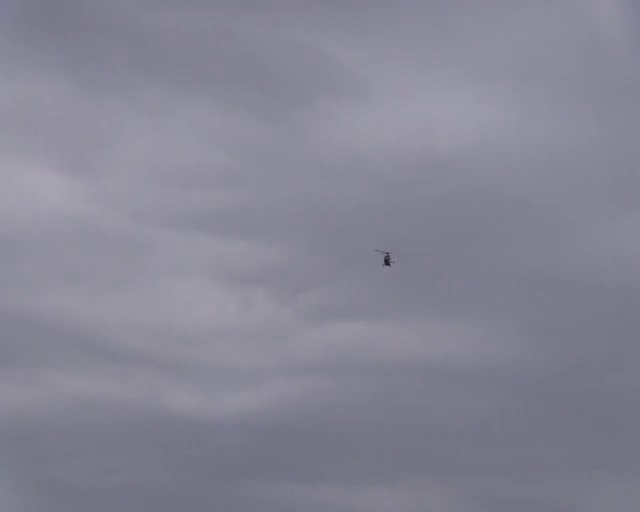HELICOPTER: (373, 248, 394, 267)
